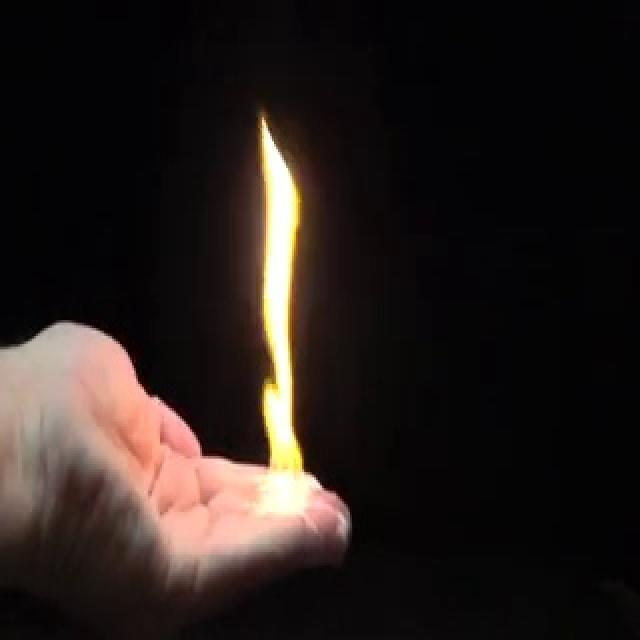fire: (248, 108, 314, 520)
